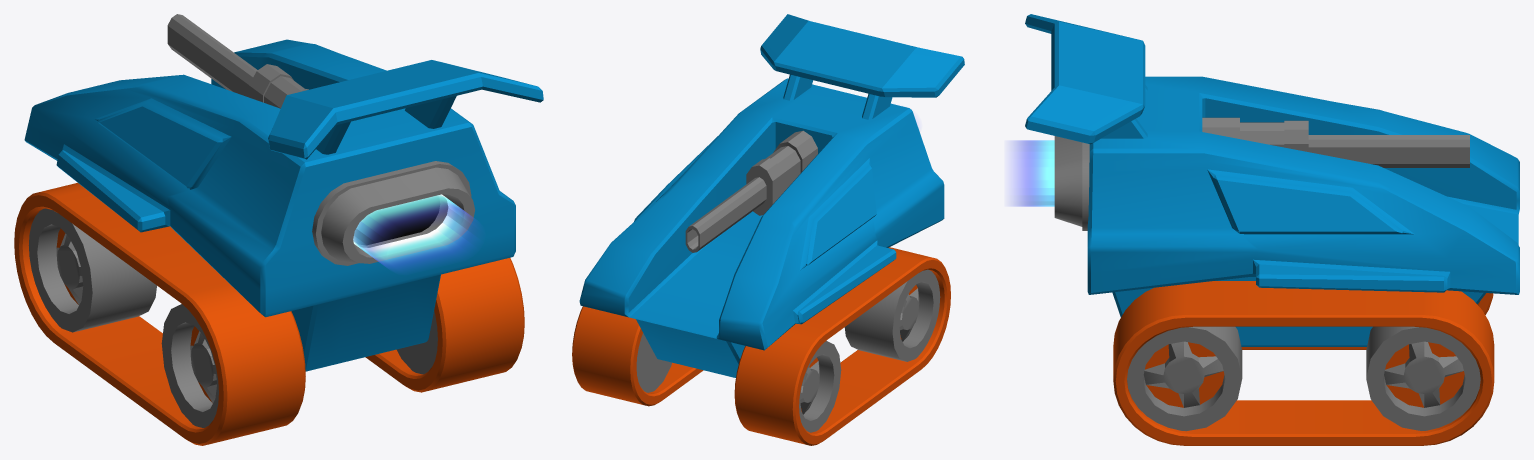
File: tank-03.glb
3 views of the same model, side by side, from view 1: azimuth 30°, elevation 25°; view 2: azimuth 150°, elevation 25°; view 3: azimuth 270°, elevation 25° (orthographic). The views are drawn at different scales.
Parts seen in each view (by area): view 1: Body, Tracks-R, Cylinder, Tracks-L, Wheel-FL, boost-fire, Wheel-BL, Weapon-Minigun, Wheel-FR; view 2: Body, Tracks-R, Tracks-L, Wheel-BL, Weapon-Minigun, Wheel-FL, Wheel-BR; view 3: Body, Tracks-L, Wheel-FR, Wheel-BR, Weapon-Minigun, boost-fire, Cylinder, Tracks-R.
Part boxes in pixels (bbox=[...]): Body: bbox=[24, 39, 543, 371]; Tracks-R: bbox=[14, 182, 305, 445]; Cylinder: bbox=[312, 161, 474, 265]; Tracks-L: bbox=[365, 258, 524, 392]; Wheel-FL: bbox=[28, 208, 156, 332]; boost-fire: bbox=[353, 194, 479, 270]; Wheel-BL: bbox=[161, 304, 218, 427]; Weapon-Minigun: bbox=[167, 14, 308, 108]; Wheel-FR: bbox=[396, 310, 437, 374]; Body: bbox=[579, 14, 964, 377]; Tracks-R: bbox=[734, 247, 950, 445]; Tracks-L: bbox=[572, 306, 703, 406]; Wheel-BL: bbox=[844, 269, 940, 361]; Weapon-Minigun: bbox=[685, 130, 817, 252]; Wheel-FL: bbox=[799, 341, 841, 432]; Wheel-BR: bbox=[636, 333, 671, 392]; Body: bbox=[1025, 14, 1519, 346]; Tracks-L: bbox=[1113, 281, 1494, 445]; Wheel-FR: bbox=[1127, 326, 1242, 431]; Wheel-BR: bbox=[1366, 326, 1480, 430]; Weapon-Minigun: bbox=[1202, 117, 1469, 167]; boost-fire: bbox=[1009, 140, 1054, 206]; Cylinder: bbox=[1054, 136, 1089, 230]; Tracks-R: bbox=[1241, 293, 1493, 349].
Size of the model in its own units: 2.74 by 3.05 by 4.45.
6 materials, 1 textured.
